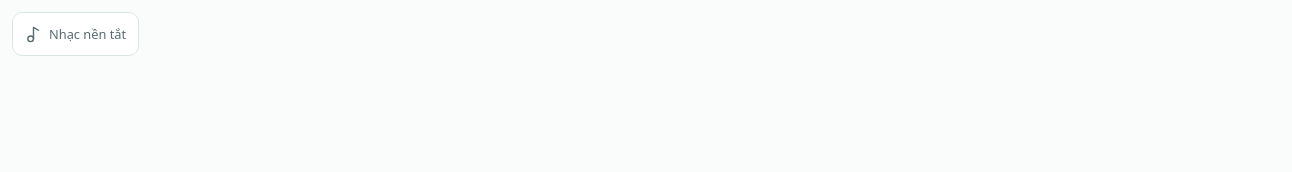
optional background music › handles blocked playback and lets the user retry
Step 1. Click the button with aria-label "Bật nhạc nền" → (76,34), box [12,12,139,56]
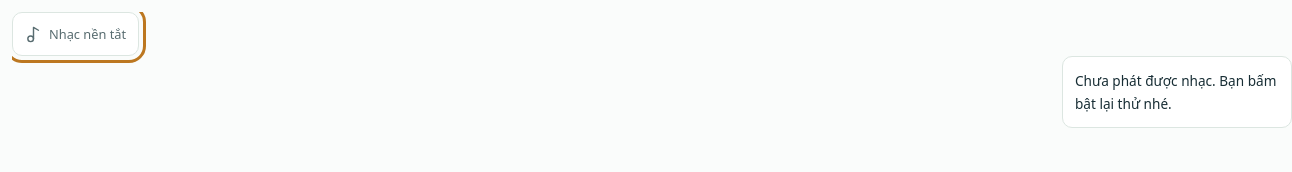
Expected: the message shows "Chưa phát được nhạc", [1075,71,1276,113]
Step 2. Click the button with aria-label "Bật nhạc nền" → (76,34), box [12,12,139,56]
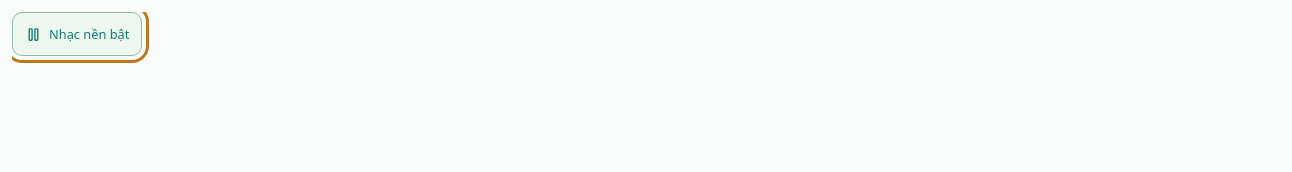
Expected: the button with aria-label "Tắt nhạc nền" is shown, [12,12,142,56]
Expected: the message "Chưa phát được nhạc. Bạn bấm bật lại thử nhé." is gone
